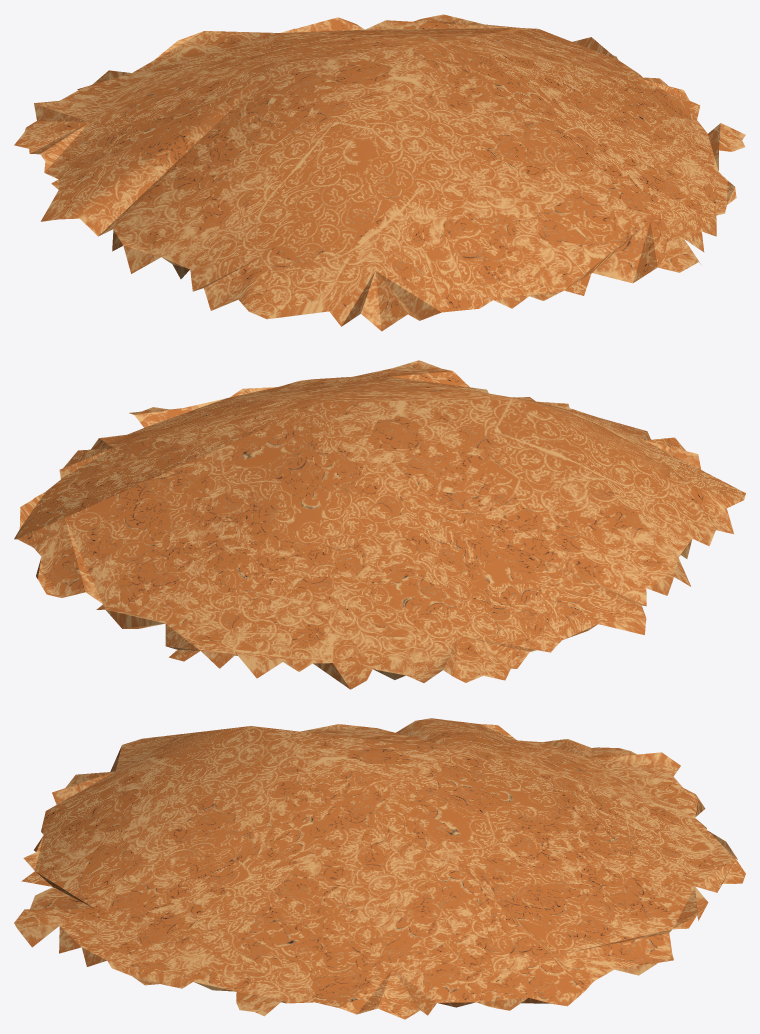
The model's file is sb_obj_ruins008_Treasure_col.fbx.
3 views of the same model, one above another, from view 1: azimuth 30°, elevation 25°; view 2: azimuth 150°, elevation 25°; view 3: azimuth 270°, elevation 25° (orthographic).
Visible parts, largest first — view 1: sb_obj_ruins008_Treasure_col; view 2: sb_obj_ruins008_Treasure_col; view 3: sb_obj_ruins008_Treasure_col.
Part boxes in pixels (x1,y1,x2,y2): sb_obj_ruins008_Treasure_col: [14, 14, 745, 331]; sb_obj_ruins008_Treasure_col: [14, 360, 745, 689]; sb_obj_ruins008_Treasure_col: [14, 718, 745, 1019].
Size of the model in its own units: 1.75 by 0.3384 by 1.8.
